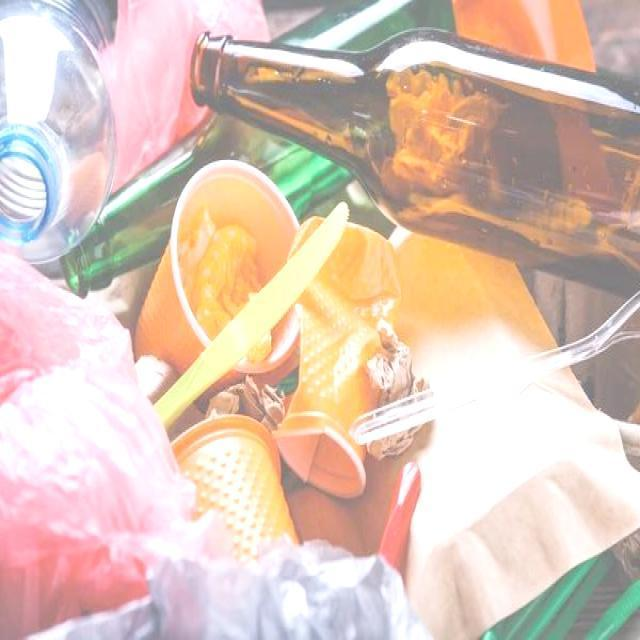Garbage: (1, 0, 640, 638)
Glass_bottle: (191, 30, 640, 290), (60, 116, 351, 295), (276, 0, 453, 50), (279, 0, 451, 51)
Plastic: (0, 245, 428, 639), (350, 292, 640, 444), (156, 203, 348, 427), (279, 225, 400, 498), (171, 414, 299, 563)
contaminated_waste: (191, 30, 640, 293), (0, 3, 116, 263)
